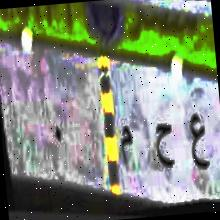0: (51, 116, 66, 154)
7aa: (150, 118, 178, 172)
ain: (184, 109, 212, 176)
meem: (117, 122, 135, 170)
